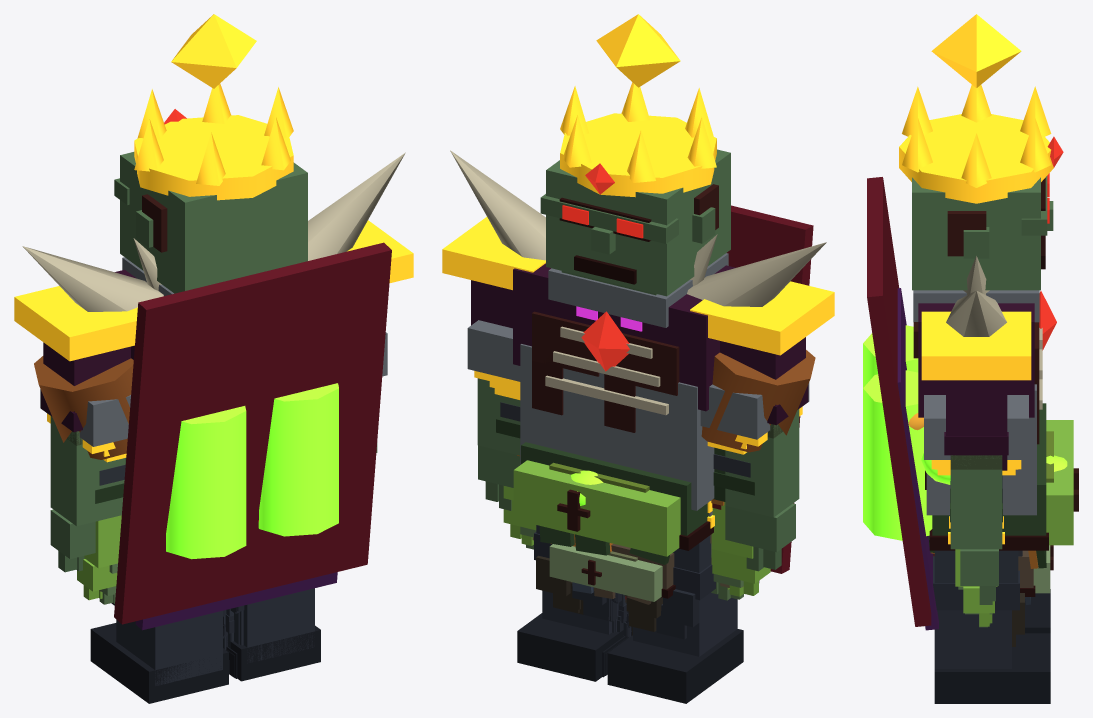
Rendered from zombies.glb.
3 views of the same model, side by side, from view 1: azimuth 30°, elevation 25°; view 2: azimuth 150°, elevation 25°; view 3: azimuth 270°, elevation 25° (orthographic).
Visible parts, largest first — view 1: cape (×2), head- (×2), torso- (×2), arm0- (×3), leg0-, fore0- (×2), leg1-, arm1- (×2), gem-; view 2: torso- (×6), head- (×2), arm0- (×4), arm1- (×3), leg0-, fore0- (×2), leg1- (×2), fore1- (×2), cape, gem-, core-; view 3: head- (×3), torso- (×4), arm1- (×3), leg1- (×2), cape (×2), fore1- (×2), gem-, leg0-, core-.
Boxes of the visible parts, <box> form: cape (×2): <box>114,242,391,630</box>; head- (×2): <box>114,83,307,295</box>; torso- (×2): <box>34,356,338,559</box>; arm0- (×3): <box>14,246,163,485</box>; leg0-: <box>90,603,228,703</box>; fore0- (×2): <box>50,416,125,600</box>; leg1-: <box>227,588,320,681</box>; arm1- (×2): <box>308,152,413,282</box>; gem-: <box>171,14,256,88</box>; torso- (×6): <box>513,263,815,604</box>; head- (×2): <box>540,82,730,331</box>; arm0- (×4): <box>687,242,834,501</box>; arm1- (×3): <box>442,150,545,421</box>; leg0-: <box>607,535,743,703</box>; fore0- (×2): <box>711,409,799,596</box>; leg1- (×2): <box>517,525,623,681</box>; fore1- (×2): <box>477,378,536,545</box>; cape: <box>727,205,813,573</box>; gem-: <box>596,14,680,87</box>; core-: <box>581,311,629,371</box>; head- (×3): <box>899,85,1063,322</box>; torso- (×4): <box>863,303,1078,596</box>; arm1- (×3): <box>921,290,1031,503</box>; leg1- (×2): <box>933,550,1050,703</box>; cape (×2): <box>867,177,938,630</box>; fore1- (×2): <box>950,455,1002,626</box>; gem-: <box>931,14,1021,87</box>; leg0-: <box>1025,589,1050,633</box>; core-: <box>1039,291,1056,350</box>.
Size of the model in its own units: 3.99 by 6.49 by 1.96.
